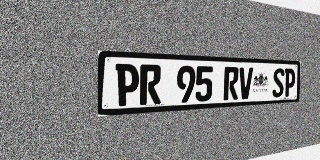5: (195, 66, 213, 102)
9: (177, 65, 196, 103)
P: (115, 64, 139, 106), (284, 68, 296, 97)
R: (140, 64, 161, 105), (223, 67, 239, 100)
S: (272, 68, 285, 97)
V: (238, 67, 253, 99)
